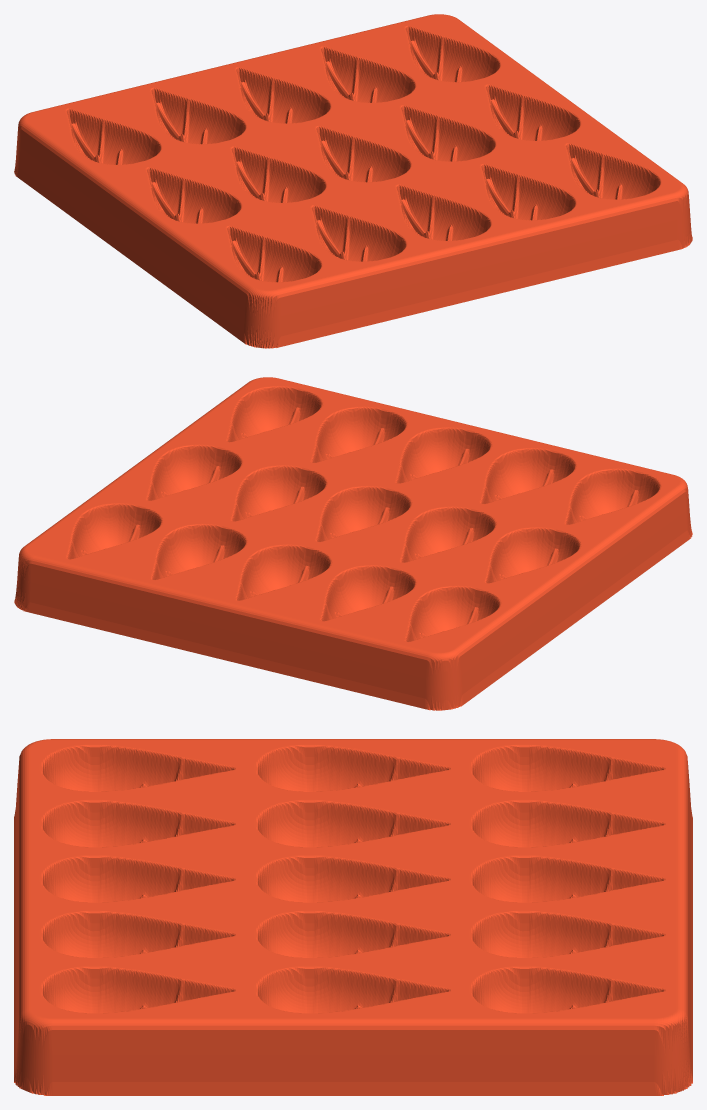
Rendered from mold.glb.
The picture shows the model from 3 angles, top to bottom: view 1: azimuth 30°, elevation 25°; view 2: azimuth 150°, elevation 25°; view 3: azimuth 270°, elevation 25°; orthographic projection. The views are drawn at different scales.
Parts seen in each view (by area): view 1: geometry_0; view 2: geometry_0; view 3: geometry_0.
Part boxes in pixels (x1,y1,x2,y2): geometry_0: (14, 14, 692, 348); geometry_0: (14, 377, 692, 710); geometry_0: (14, 739, 692, 1095).
Bounding box in the file's own units: 0.1628 × 0.0184 × 0.1602.
